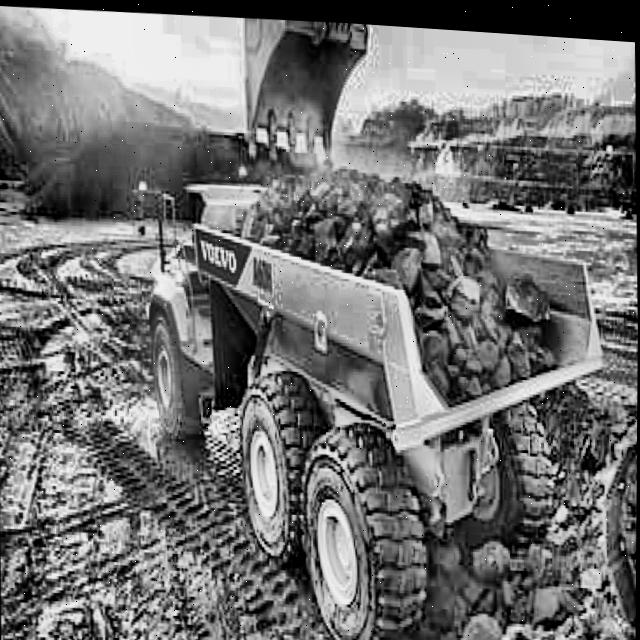dump_truck: (115, 158, 609, 627)
